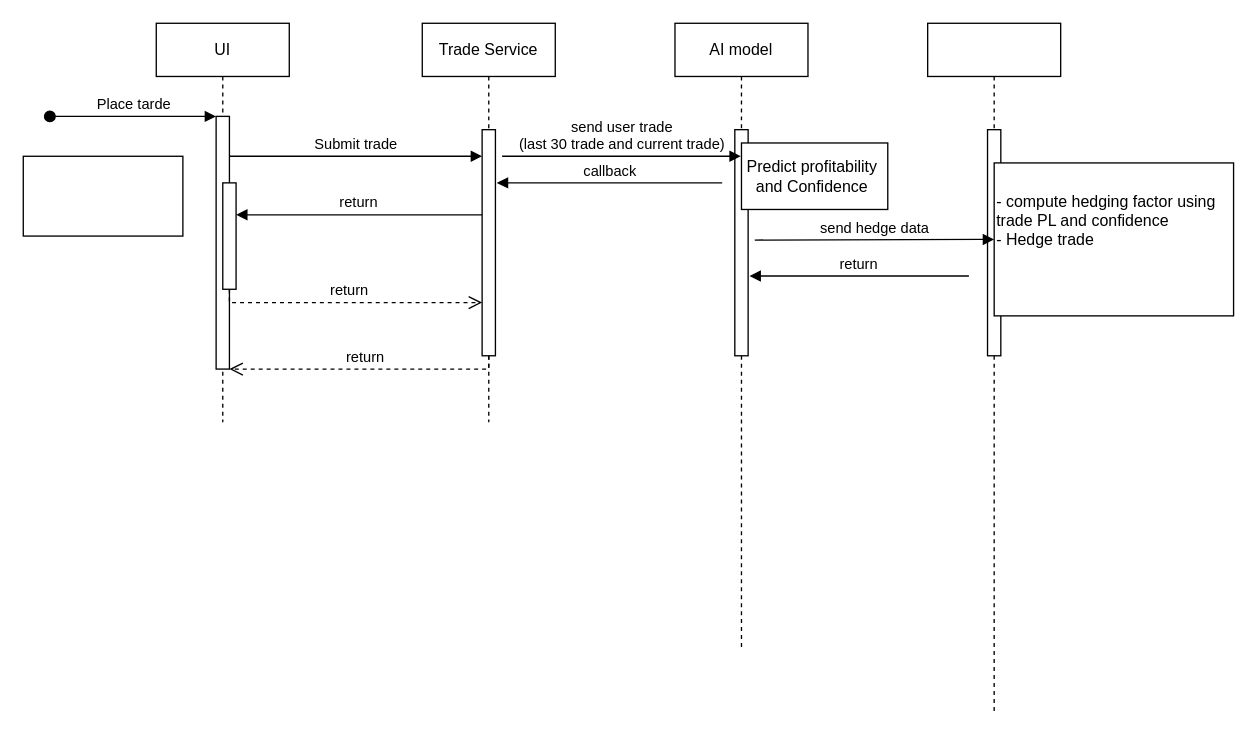
Some shapes in this 1257 by 738 pixel diagram are drawn without their labels. The centre of each missing label's shape, as x and y in pixels:
"After user signup and trade history compute" goes at point 102,195.
"Hedging Service" goes at point 993,368.
